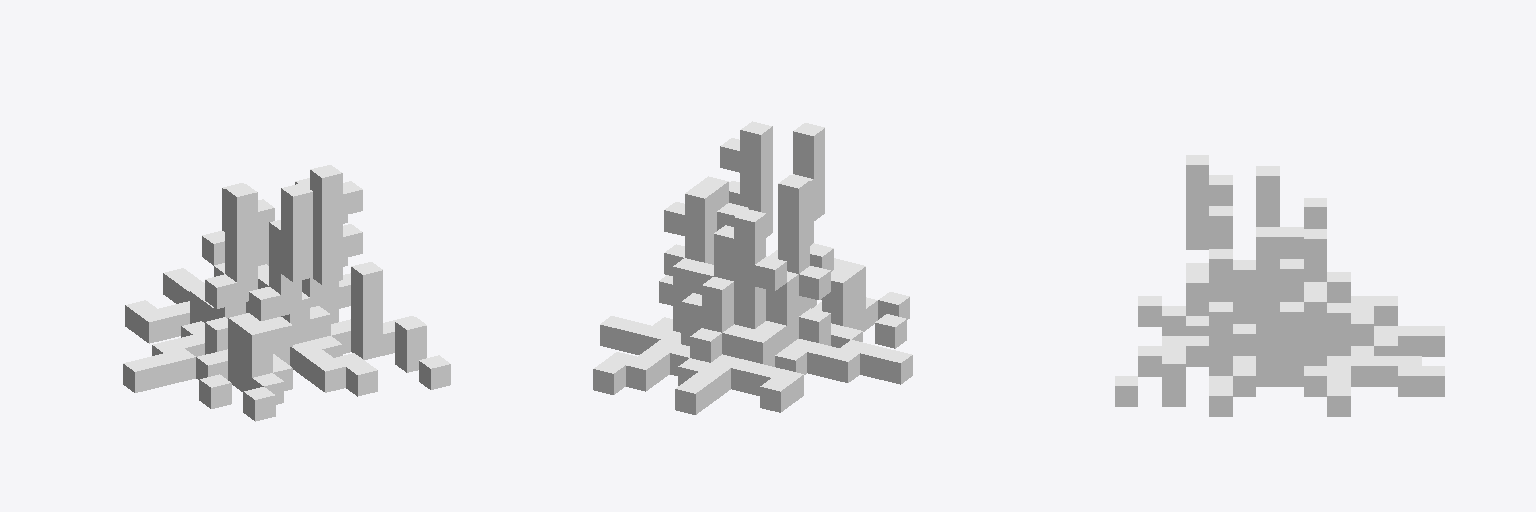
Rendered from fireplace_001.obj.
The picture shows the model from 3 angles: view 1: azimuth 30°, elevation 25°; view 2: azimuth 150°, elevation 25°; view 3: azimuth 270°, elevation 25°; orthographic projection.
Visible parts, largest first — view 1: object 1; view 2: object 1; view 3: object 1.
Part boxes in pixels (x1,y1,x2,y2): object 1: (123,165,450,421); object 1: (593,121,912,414); object 1: (1115,155,1444,416).
Size of the model in its own units: 1.3 by 0.9 by 1.4.